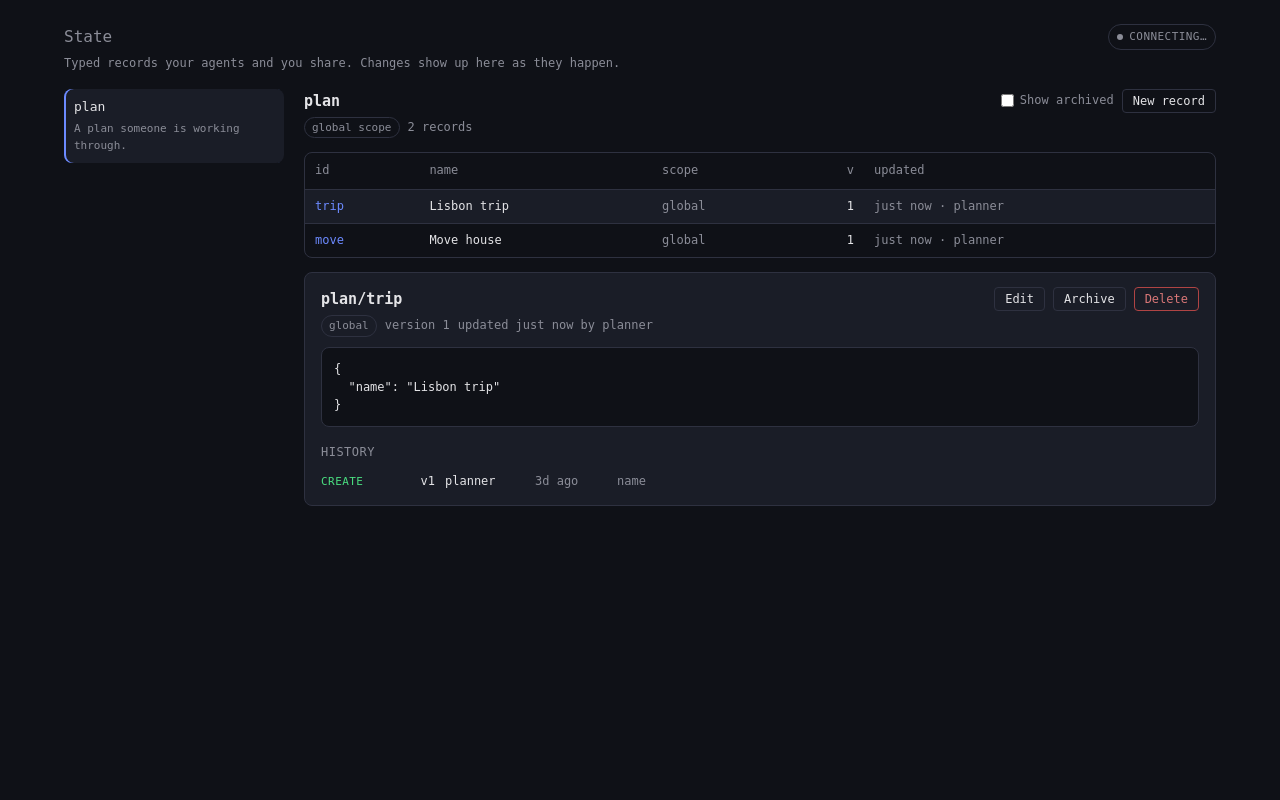
Scenario: State page › saves with the version that was opened, and shows the server's reason when it is refused
Click the button "Edit". click: (1020, 299)
box: 994,287 -> 1045,311
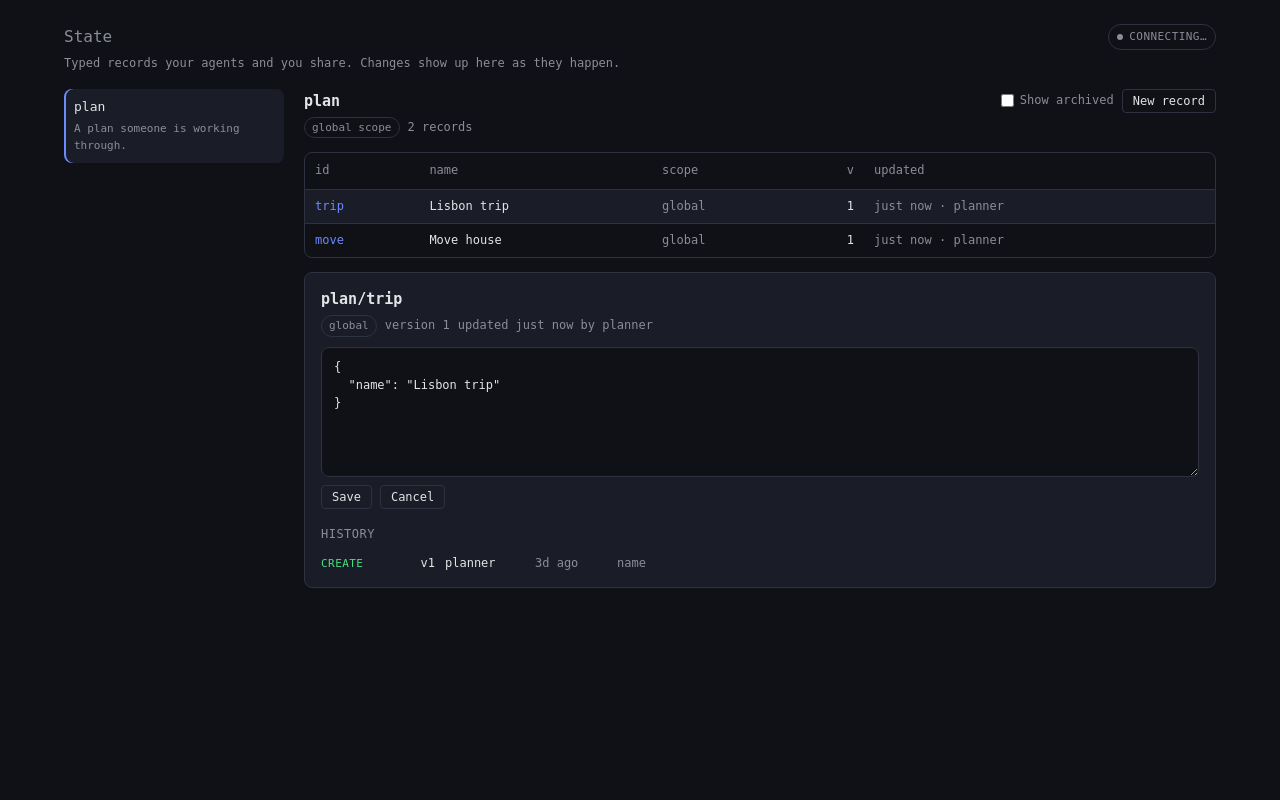
Click the button "Save". click: (346, 496)
box: 321,484 -> 372,508
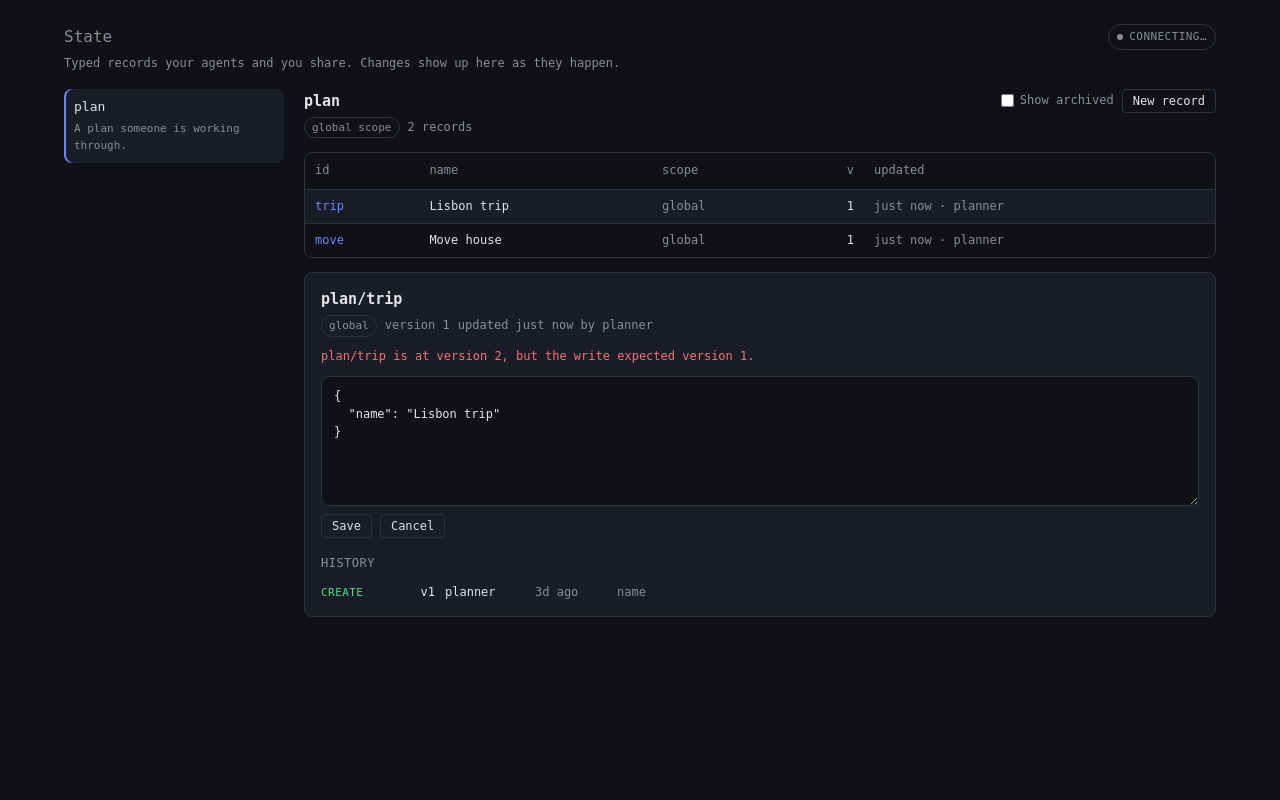
Check: the text with class "config-error" reads "plan/trip is at version 2, but the write expected version 1.", box 321,348 -> 754,362
